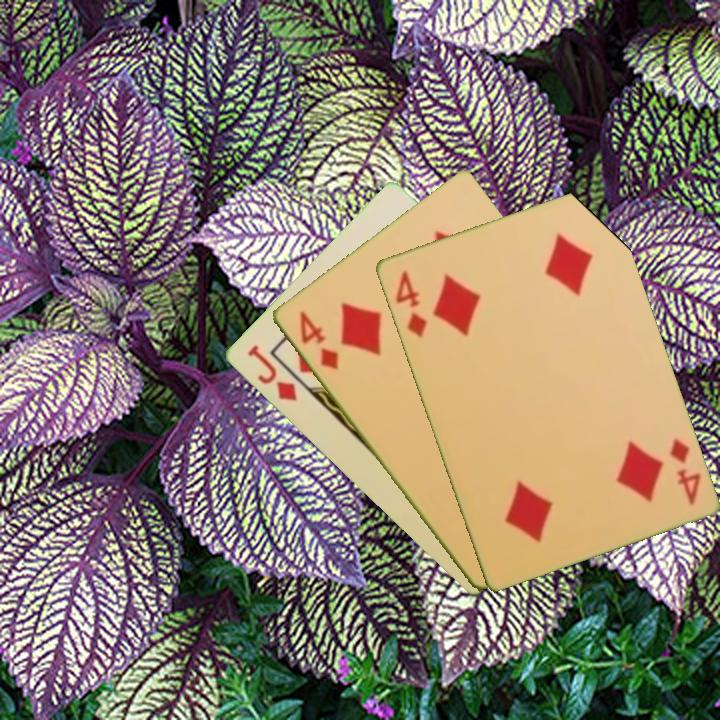4d: (295, 307, 342, 373), (391, 266, 430, 340), (665, 434, 703, 508)
Jd: (243, 341, 300, 405)
